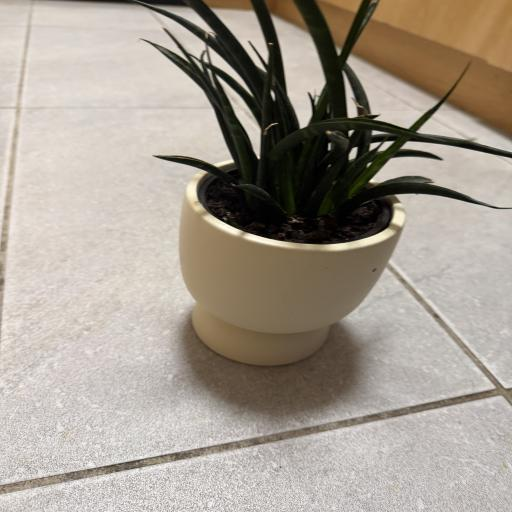Plant Pot: (174, 152, 401, 366)
